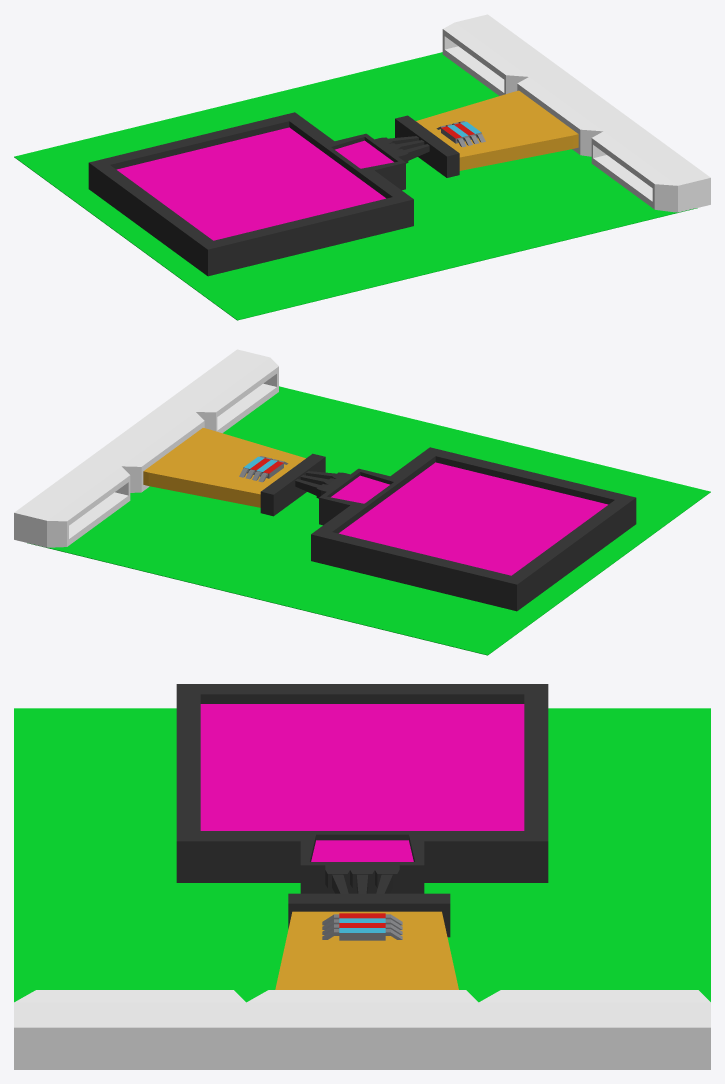
File: Level Select.fbx
The picture shows the model from 3 angles, top to bottom: view 1: azimuth 30°, elevation 25°; view 2: azimuth 150°, elevation 25°; view 3: azimuth 270°, elevation 25°; orthographic projection. The views are drawn at different scales.
Visible parts, largest first — view 1: Cube, Cube.003, Cube.001, Cube.002, Cube.004, Cube.005; view 2: Cube, Cube.003, Cube.001, Cube.002, Cube.004, Cube.005; view 3: Cube, Cube.003, Cube.001, Cube.002, Cube.004, Cube.005.
Boxes of the visible parts, x1,y1,x2,y2 form: Cube: (14,52,697,320); Cube.003: (88,112,429,276); Cube.001: (442,14,710,212); Cube.002: (416,90,578,170); Cube.004: (395,115,459,177); Cube.005: (436,121,485,147); Cube: (27,386,710,655); Cube.003: (295,447,636,611); Cube.001: (14,349,278,547); Cube.002: (143,428,305,507); Cube.004: (260,453,325,516); Cube.005: (239,456,288,482); Cube: (14,708,710,1002); Cube.003: (176,684,548,893); Cube.001: (14,990,710,1069); Cube.002: (275,911,458,989); Cube.004: (288,893,450,937); Cube.005: (322,913,402,940).
Bounding box in the file's own units: 3676 × 205 × 3000.
